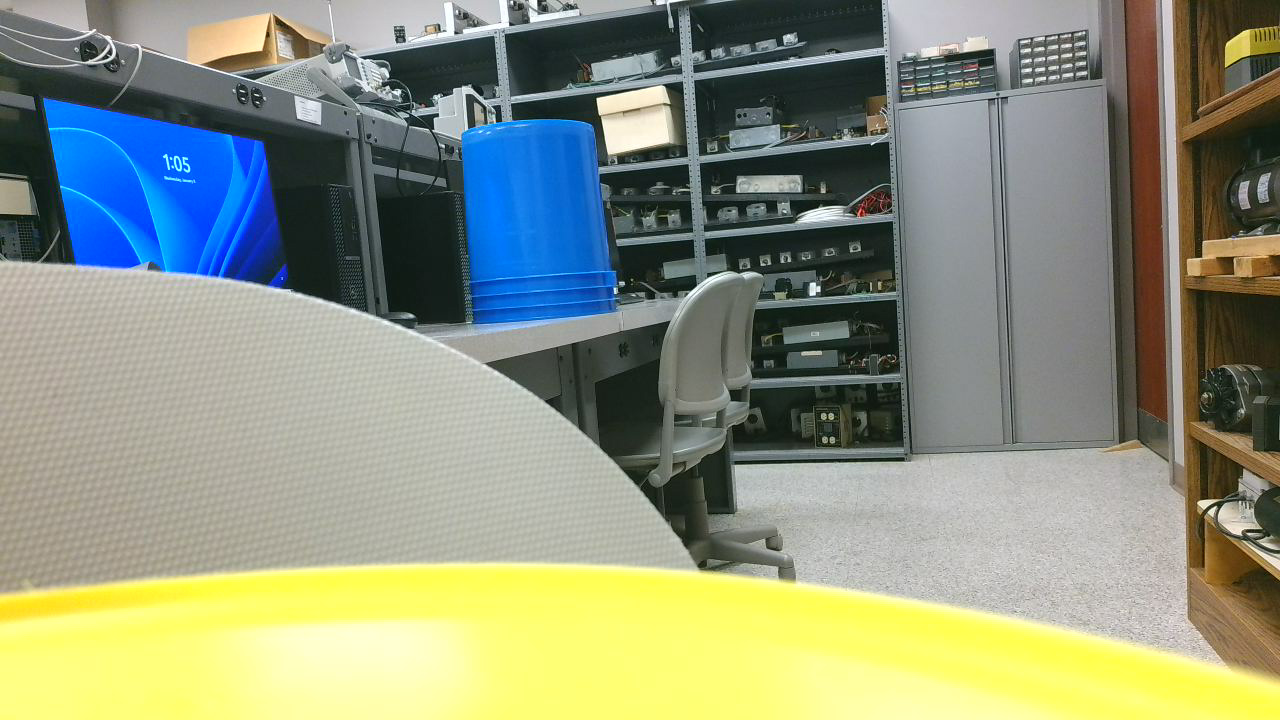blue_bucket: (463, 120, 629, 334)
